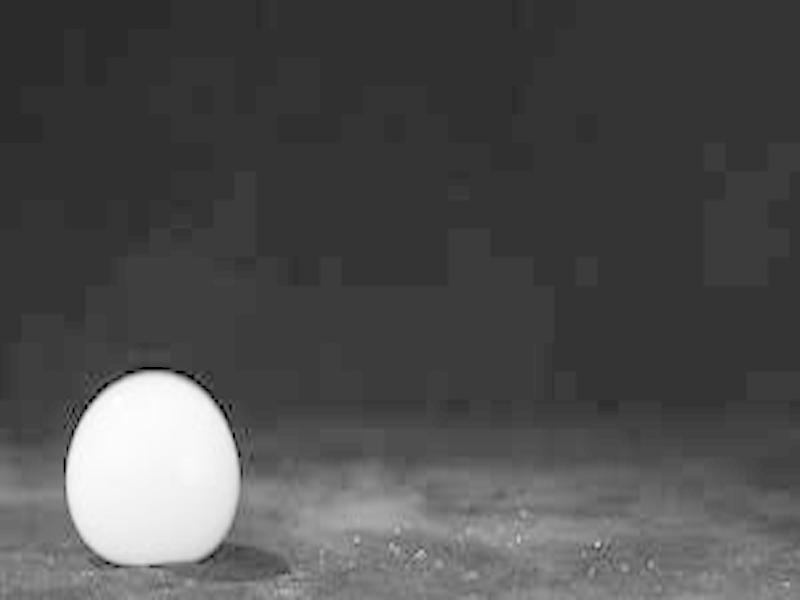Eggs: (67, 371, 240, 561)
